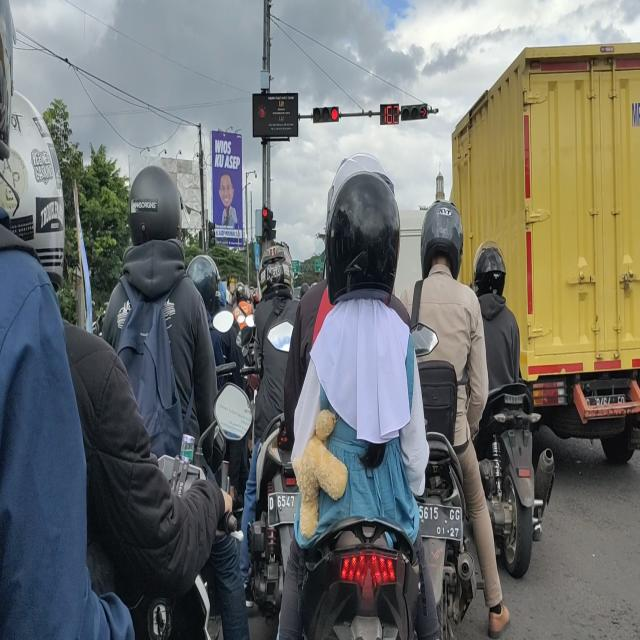helmet: (0, 87, 64, 280), (325, 179, 401, 300), (130, 165, 187, 249), (423, 194, 463, 273), (256, 245, 295, 300), (474, 244, 508, 303), (188, 255, 220, 306), (235, 284, 245, 304)
